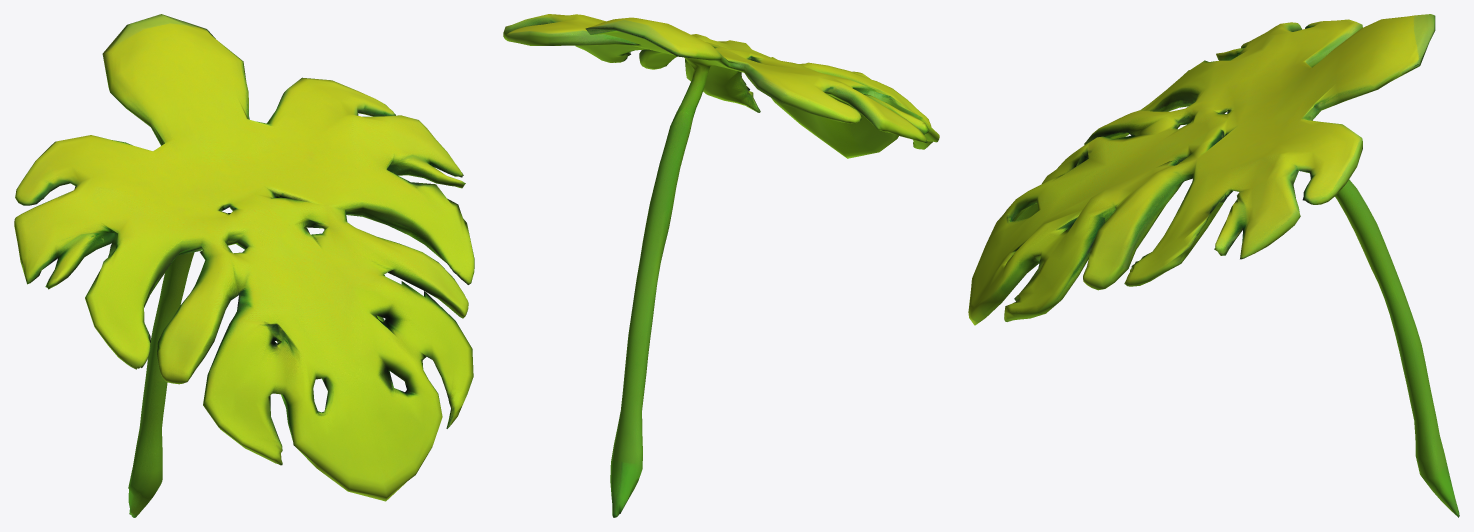
File: mon_neon_lime.glb
3 views of the same model, side by side, from view 1: azimuth 30°, elevation 25°; view 2: azimuth 150°, elevation 25°; view 3: azimuth 270°, elevation 25° (orthographic). The views are drawn at different scales.
Bounding box in the file's own units: 1.79 × 2 × 1.8.
1 material, 1 textured.
